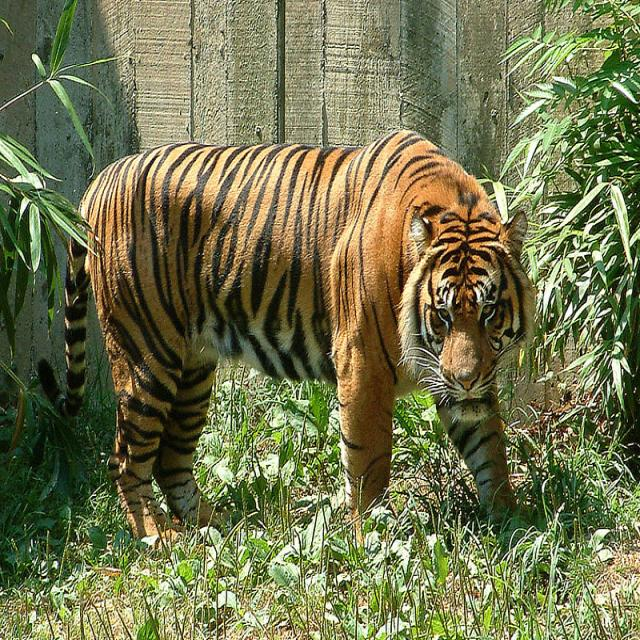Tiger: (58, 130, 536, 540)
